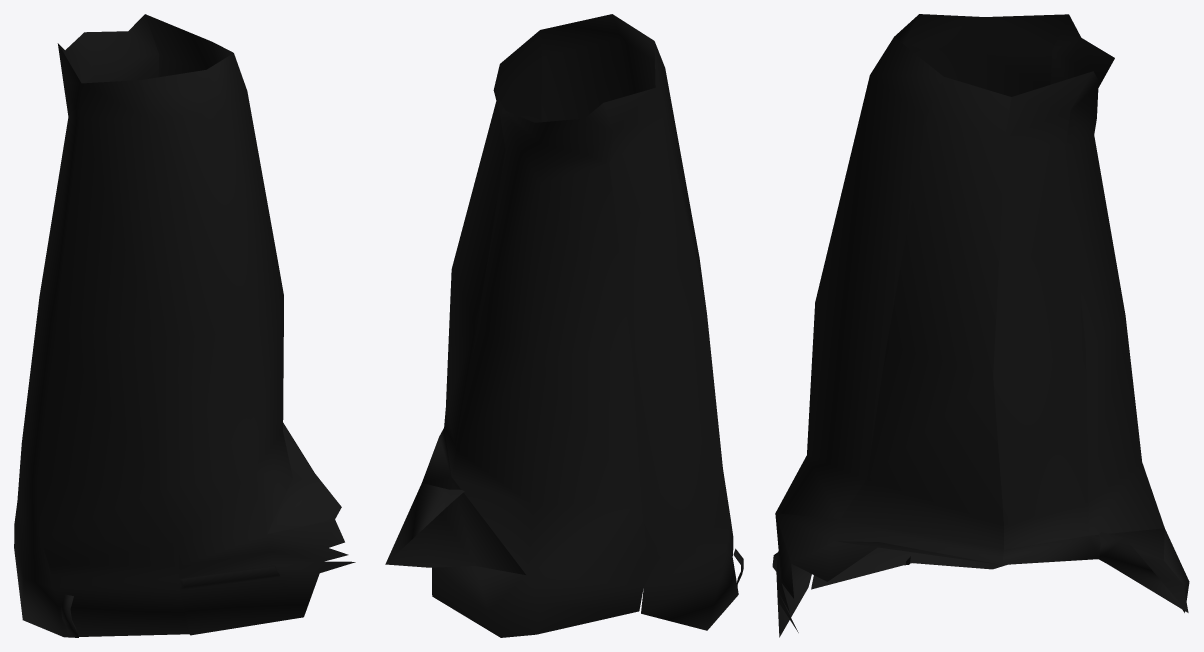
Rendered from left_up_leg.glb.
3 renders of one model, left to right at view 1: azimuth 30°, elevation 25°; view 2: azimuth 150°, elevation 25°; view 3: azimuth 270°, elevation 25°, orthographic. The views are drawn at different scales.
Parts seen in each view (by area): view 1: trousers-black_LEFT_UP_LEG; view 2: trousers-black_LEFT_UP_LEG; view 3: trousers-black_LEFT_UP_LEG.
Boxes of the visible parts, x1,y1,x2,y2 form: trousers-black_LEFT_UP_LEG: (14, 14, 355, 637); trousers-black_LEFT_UP_LEG: (385, 14, 743, 637); trousers-black_LEFT_UP_LEG: (772, 14, 1189, 637).
Bounding box in the file's own units: 0.2605 × 0.5072 × 0.3154.
1 material, 1 textured.
